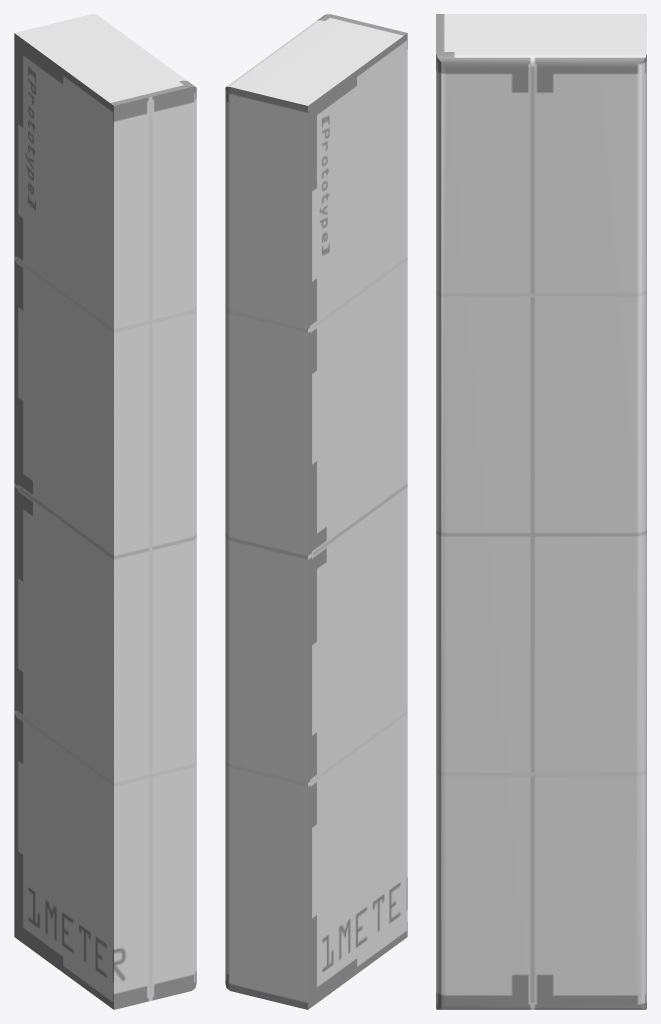
The model's file is moving door.fbx.
3 renders of one model, left to right at view 1: azimuth 30°, elevation 25°; view 2: azimuth 150°, elevation 25°; view 3: azimuth 270°, elevation 25°, orthographic. The views are drawn at different scales.
Parts seen in each view (by area): view 1: MovingDoor; view 2: MovingDoor; view 3: MovingDoor.
Part boxes in pixels (x1,y1,x2,y2): MovingDoor: [14, 14, 196, 1009]; MovingDoor: [225, 14, 407, 1009]; MovingDoor: [436, 14, 646, 1009].
Size of the model in its own units: 1 by 10 by 2.
Materials: 1 (1 with a texture image).
